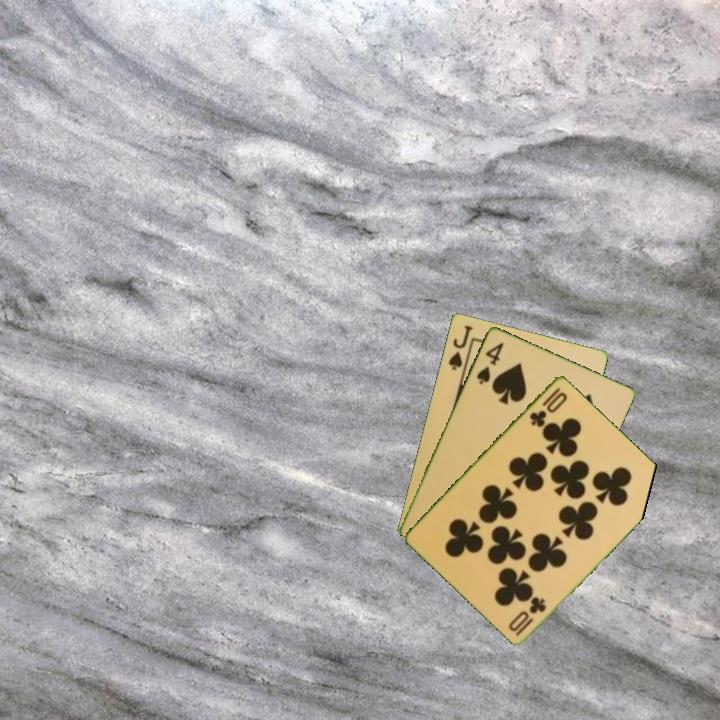10c: (525, 383, 570, 430), (512, 593, 549, 638)
4s: (473, 338, 506, 387)
Js: (445, 321, 475, 373)
